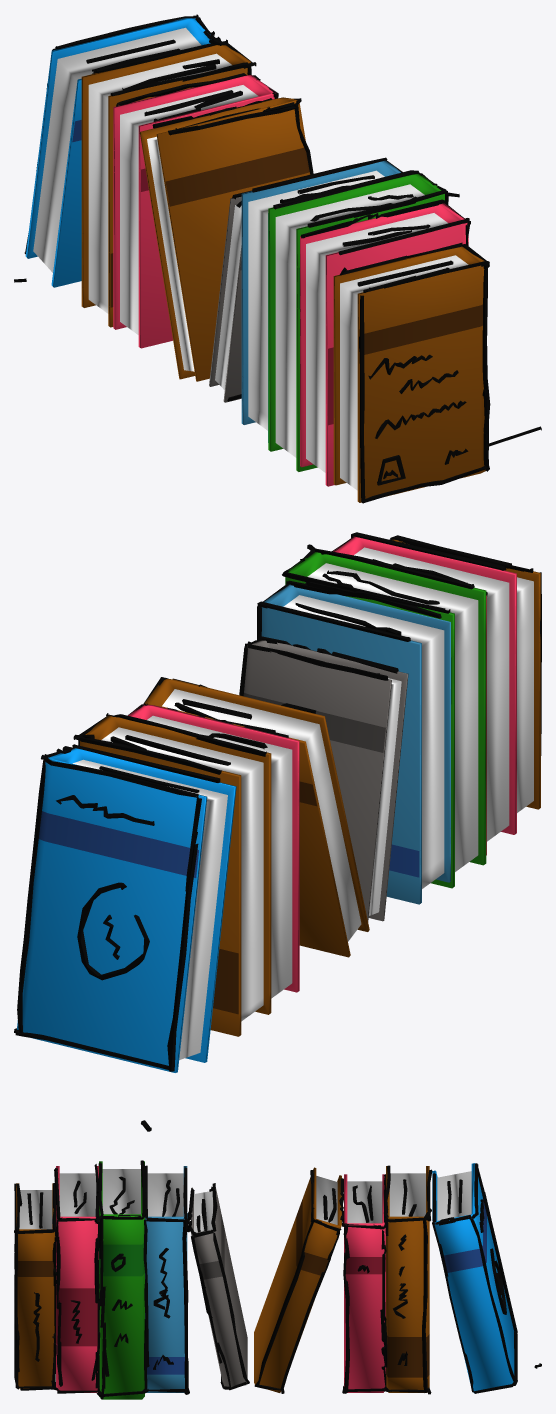
The model's file is books.glb.
3 views of the same model, one above another, from view 1: azimuth 30°, elevation 25°; view 2: azimuth 150°, elevation 25°; view 3: azimuth 270°, elevation 25° (orthographic). The views are drawn at different scales.
Visible parts, largest first — view 1: books1_, lines_books1_; view 2: books1_, lines_books1_; view 3: books1_, lines_books1_.
Part boxes in pixels (x1,y1,x2,y2): books1_: (25, 18, 485, 502); lines_books1_: (14, 14, 541, 503); books1_: (17, 536, 540, 1072); lines_books1_: (14, 532, 541, 1131); books1_: (16, 1161, 514, 1399); lines_books1_: (14, 1160, 541, 1399).
Size of the model in its own units: 0.3023 by 0.4052 by 0.9447.
